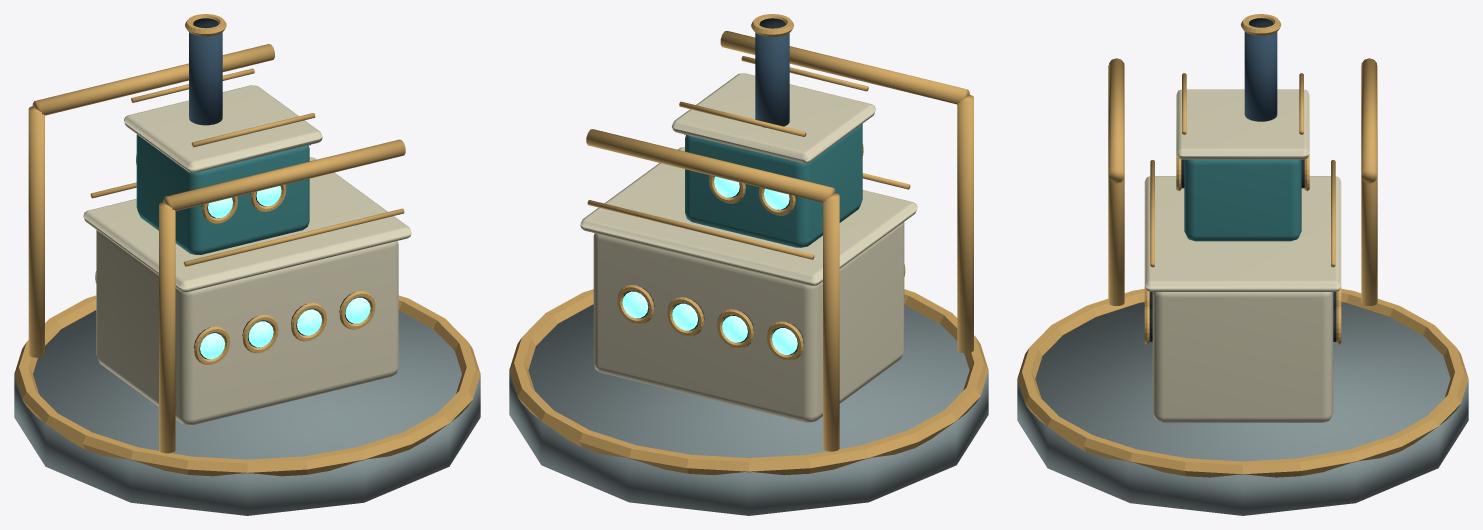
Rendered from shipyard.glb.
The picture shows the model from 3 angles, left to right: view 1: azimuth 30°, elevation 25°; view 2: azimuth 150°, elevation 25°; view 3: azimuth 270°, elevation 25°; orthographic projection. The views are drawn at different scales.
Visible parts, largest first — view 1: shipyard / Ceramic | warm ivory, shipyard / Iron | weathered steel, shipyard / Brass | machined champagne, shipyard / Paint | North Sea petrol, shipyard / Paint | Prussian blue, shipyard / Glass | luminous mint, shipyard / Rubber | dark insets; view 2: shipyard / Ceramic | warm ivory, shipyard / Iron | weathered steel, shipyard / Brass | machined champagne, shipyard / Paint | North Sea petrol, shipyard / Paint | Prussian blue, shipyard / Glass | luminous mint, shipyard / Rubber | dark insets; view 3: shipyard / Iron | weathered steel, shipyard / Ceramic | warm ivory, shipyard / Brass | machined champagne, shipyard / Paint | North Sea petrol, shipyard / Paint | Prussian blue, shipyard / Rubber | dark insets.
Part boxes in pixels (left/top/right/bottom): shipyard / Ceramic | warm ivory: left=83, top=85, right=411, bottom=425; shipyard / Iron | weathered steel: left=14, top=310, right=480, bottom=515; shipyard / Brass | machined champagne: left=14, top=14, right=480, bottom=476; shipyard / Paint | North Sea petrol: left=136, top=134, right=309, bottom=254; shipyard / Paint | Prussian blue: left=189, top=32, right=222, bottom=125; shipyard / Glass | luminous mint: left=200, top=186, right=370, bottom=359; shipyard / Rubber | dark insets: left=193, top=18, right=369, bottom=359; shipyard / Ceramic | warm ivory: left=580, top=73, right=917, bottom=422; shipyard / Iron | weathered steel: left=509, top=305, right=988, bottom=515; shipyard / Brass | machined champagne: left=509, top=14, right=988, bottom=475; shipyard / Paint | North Sea petrol: left=685, top=124, right=862, bottom=247; shipyard / Paint | Prussian blue: left=755, top=33, right=789, bottom=127; shipyard / Glass | luminous mint: left=622, top=176, right=797, bottom=354; shipyard / Rubber | dark insets: left=624, top=18, right=804, bottom=355; shipyard / Iron | weathered steel: left=1017, top=302, right=1468, bottom=515; shipyard / Ceramic | warm ivory: left=1144, top=89, right=1341, bottom=422; shipyard / Brass | machined champagne: left=1017, top=14, right=1468, bottom=477; shipyard / Paint | North Sea petrol: left=1184, top=159, right=1301, bottom=241; shipyard / Paint | Prussian blue: left=1244, top=32, right=1277, bottom=121; shipyard / Rubber | dark insets: left=1149, top=18, right=1336, bottom=341.
Bounding box in the file's own units: 5 × 4.69 × 5.
